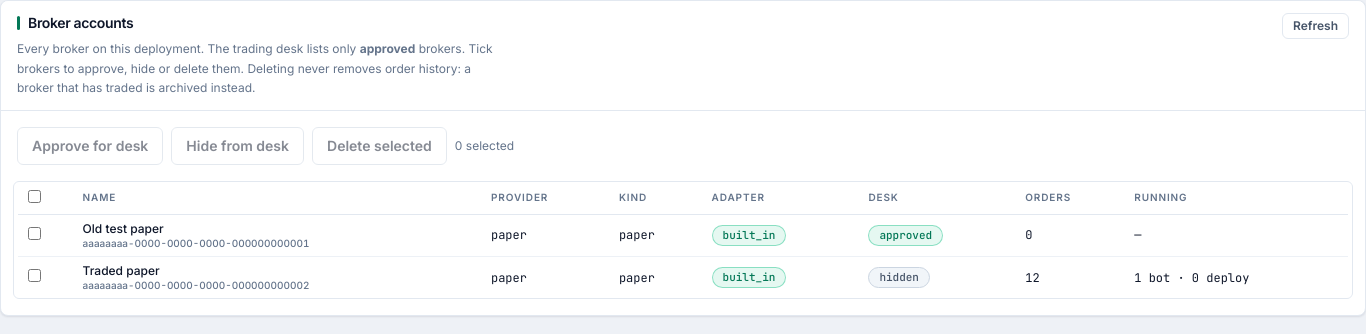
Test: BrokerAccountsAdmin › select-all ticks every row
Expected: the text "Old test paper" is shown, 83,221 -> 164,236
Click the checkbox named "Select all brokers": (34, 196) 28,190 -> 41,202
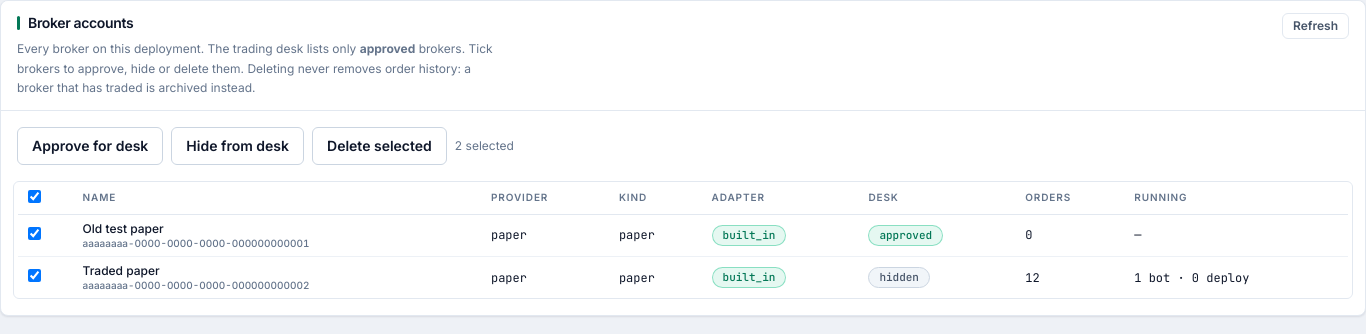
Expected: the text "2 selected" is shown, 455,138 -> 514,154
